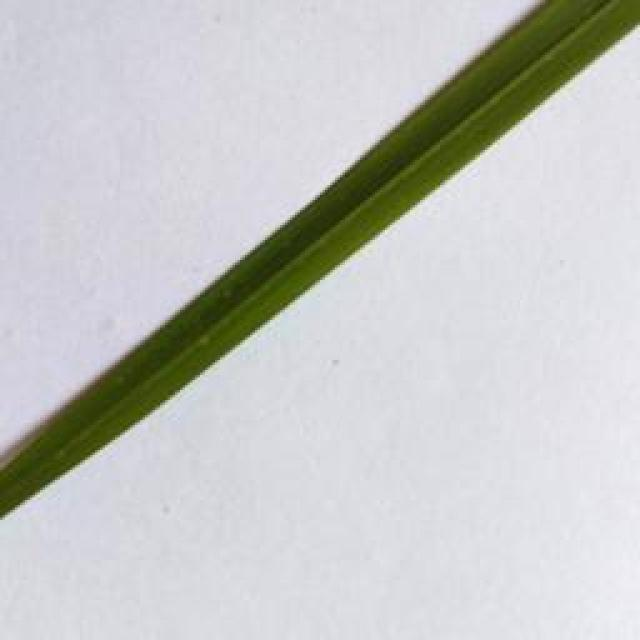Healthy-Plant: (0, 0, 640, 515)
